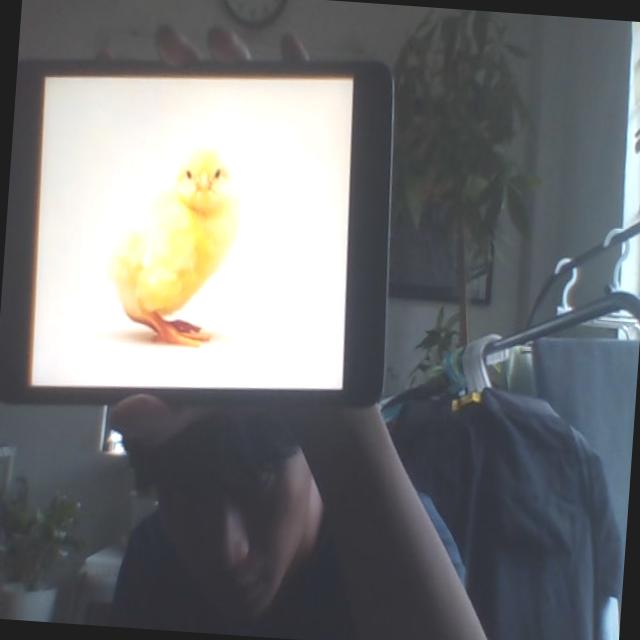Healthy: (94, 126, 248, 352)
